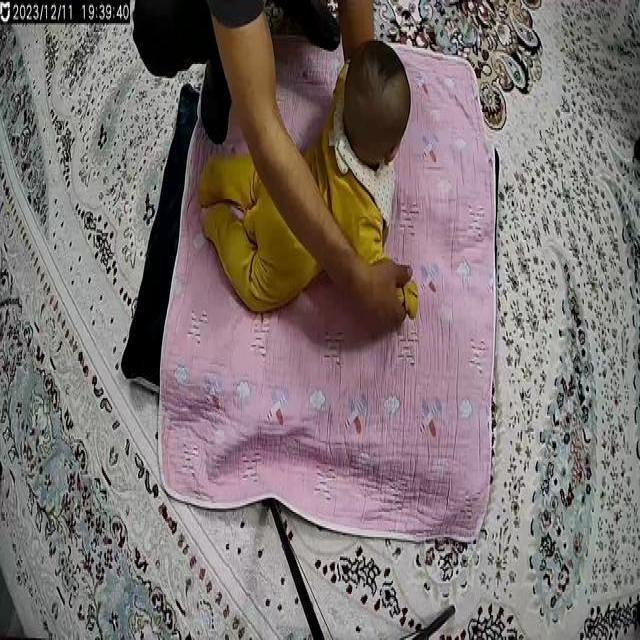baby: (184, 40, 428, 362)
